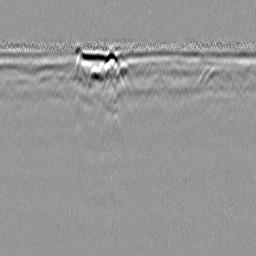cavity: (113, 61, 134, 91)
